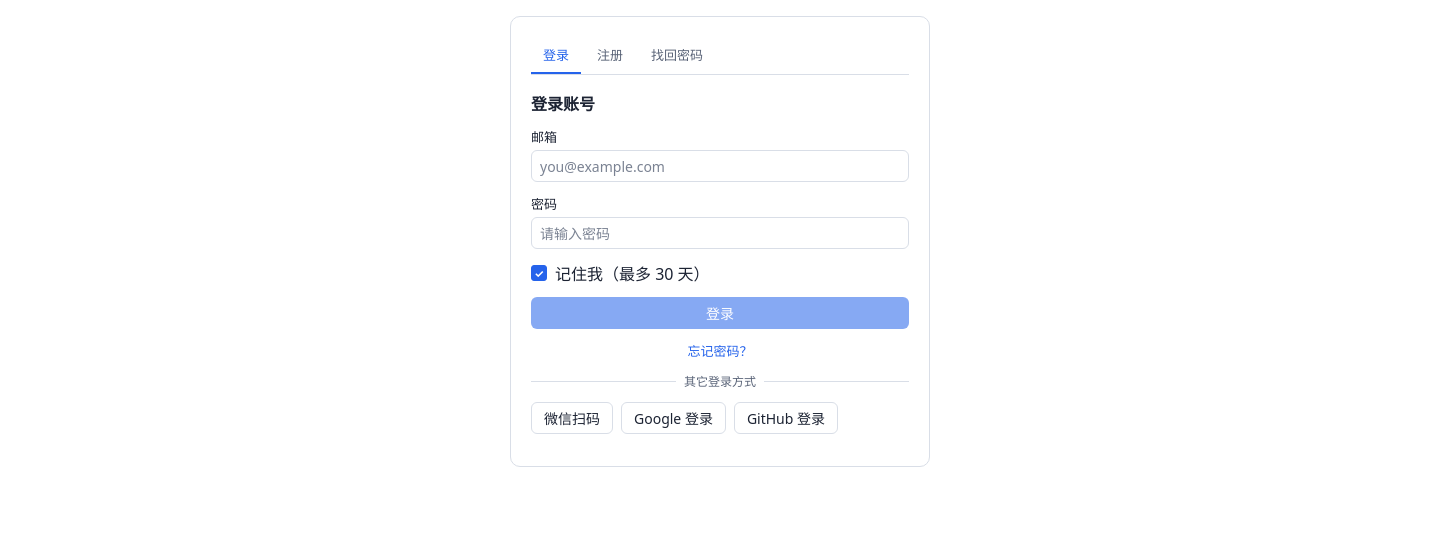
Test case: 离线本地模式（FR-ACC-05） › 云端不可达时展示横幅且登录入口置灰，本地可继续使用
The width and height of the screenshot is (1440, 538).
Type "dev@example.com" into the field named "登录邮箱" at (720, 166), box [540,151,900,181]
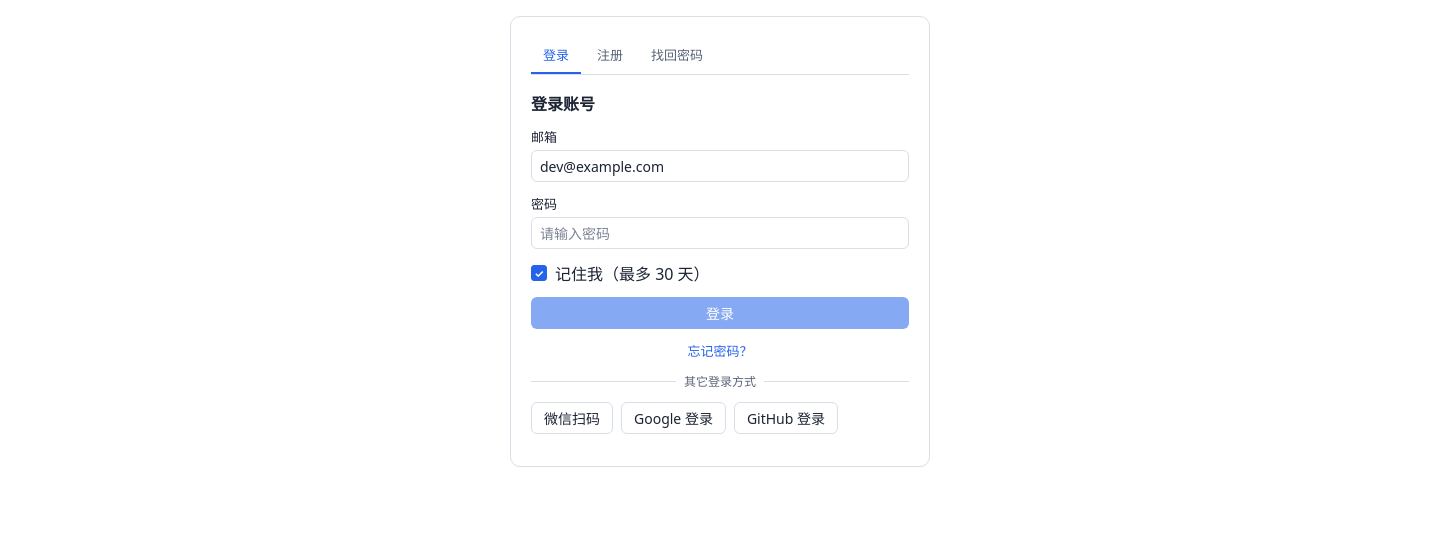
Type "Abcd1234" into the password field named "登录密码" at (720, 233), box [540,218,900,248]
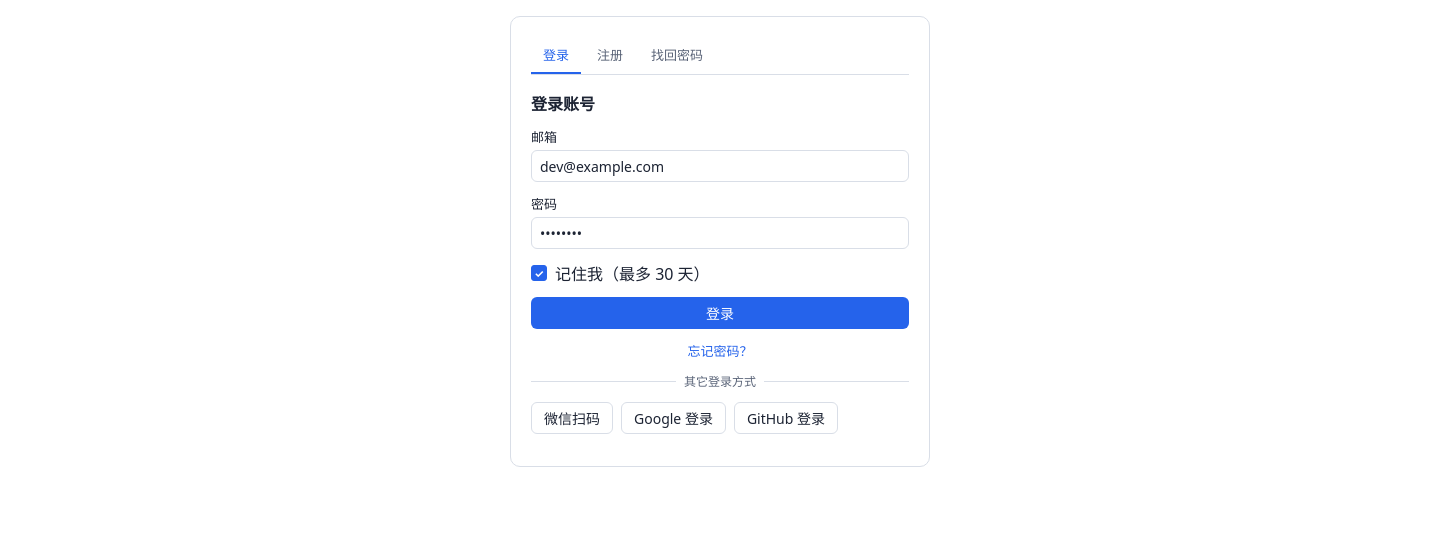
Click the button "登录" at (720, 313), box [531,297,909,329]
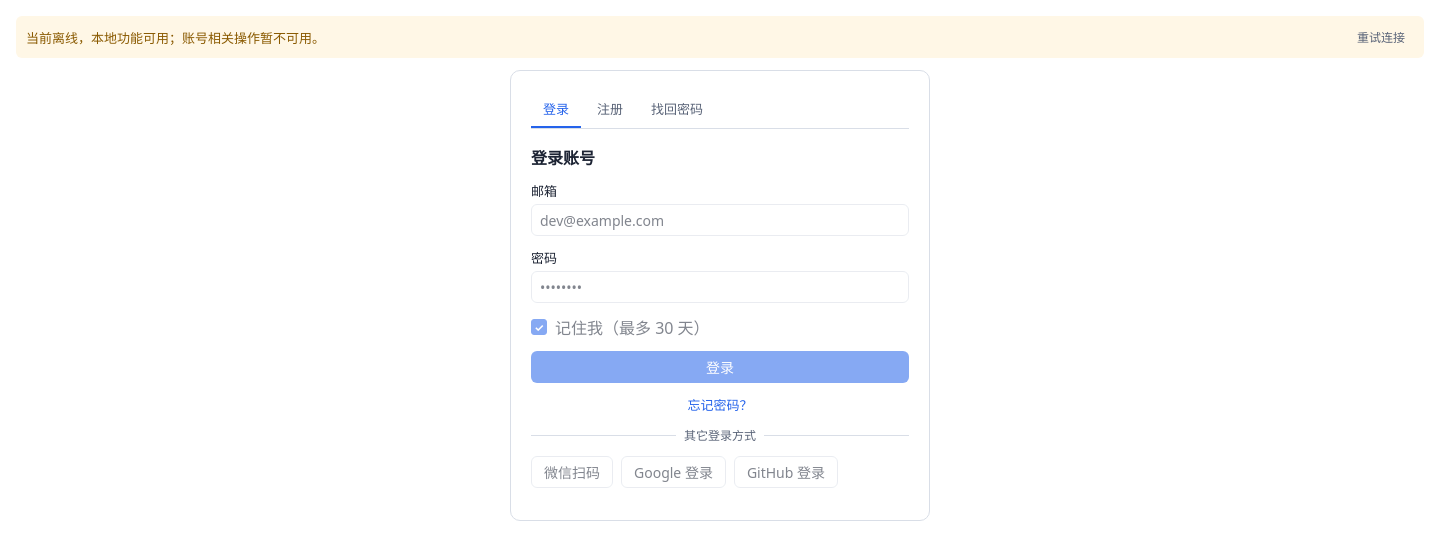
Result: the message "当前离线，本地功能可用；账号相关操作暂不可用。 重试连接" is shown at [16,16,1424,58]
Result: the text "当前离线，本地功能可用；账号相关操作暂不可用。" is shown at [26,28,325,46]
Result: the field named "登录邮箱" is disabled at [540,205,900,235]
